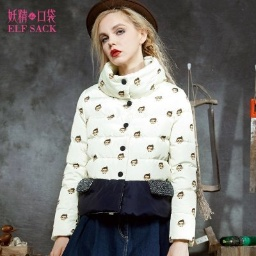face: (87, 5, 166, 73)
